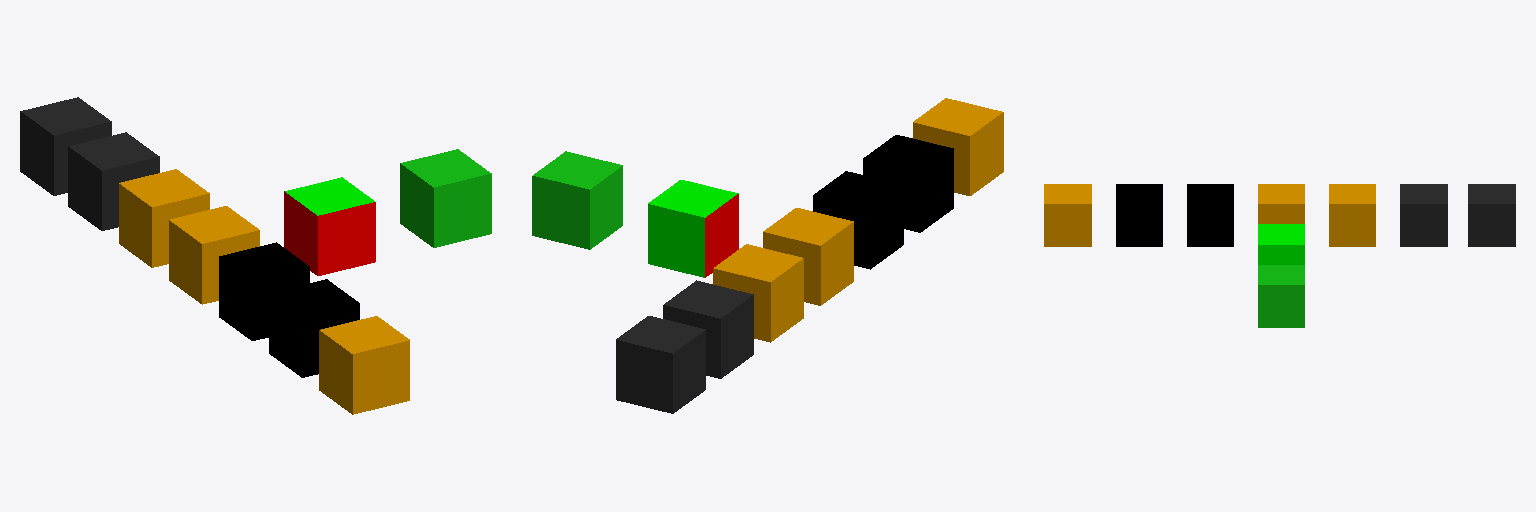
The robot description file, URDF, robot "dae_materials":
<?xml version="1.0"?>
<robot name="dae_materials">
  <link name="link1">
    <visual>
      <geometry>
        <mesh filename="assets/box_materials.dae"/>
      </geometry>
    </visual>
  </link>
  <link name="link2">
    <visual>
      <geometry>
        <mesh filename="assets/box_two_materials.dae"/>
      </geometry>
    </visual>
  </link>
  <link name="link_transparent">
    <visual>
      <geometry>
        <mesh filename="assets/box_transparent_material.dae"/>
      </geometry>
    </visual>
  </link>

  <joint name="joint_link" type="fixed">
    <origin rpy="0 0 0" xyz="2 0 0"/>
    <parent link="link1"/>
    <child link="link2"/>
  </joint>
  <joint name="joint_link_transparent" type="fixed">
    <origin rpy="0 0 0" xyz="2 0 0"/>
    <parent link="link2"/>
    <child link="link_transparent"/>
  </joint>
</robot>

--- What the picture shows (computed from the rendered views, not written in the file) ---
Views: 3 orthographic renders of the robot side by side, from view 1: azimuth 30°, elevation 25°; view 2: azimuth 150°, elevation 25°; view 3: azimuth 270°, elevation 25°.
Model dae_materials with 3 links and 2 joints (2 fixed), rooted at link1, posed every joint at zero.
Visible links, largest first — view 1: link1, link_transparent, link2; view 2: link1, link_transparent, link2; view 3: link1, link_transparent, link2.
Boxes of the visible links, bbox=[...] form: link1: bbox=[20, 97, 409, 414]; link_transparent: bbox=[400, 149, 491, 247]; link2: bbox=[284, 177, 375, 275]; link1: bbox=[616, 98, 1003, 413]; link_transparent: bbox=[532, 151, 622, 249]; link2: bbox=[648, 180, 738, 277]; link1: bbox=[1044, 184, 1515, 246]; link_transparent: bbox=[1258, 265, 1304, 327]; link2: bbox=[1258, 224, 1304, 264].
Bounding box of the posed robot: 5 × 9.93 × 1 m (x, y, z).
3 mesh visuals loaded from 3 distinct referenced files (3 Collada DAE).